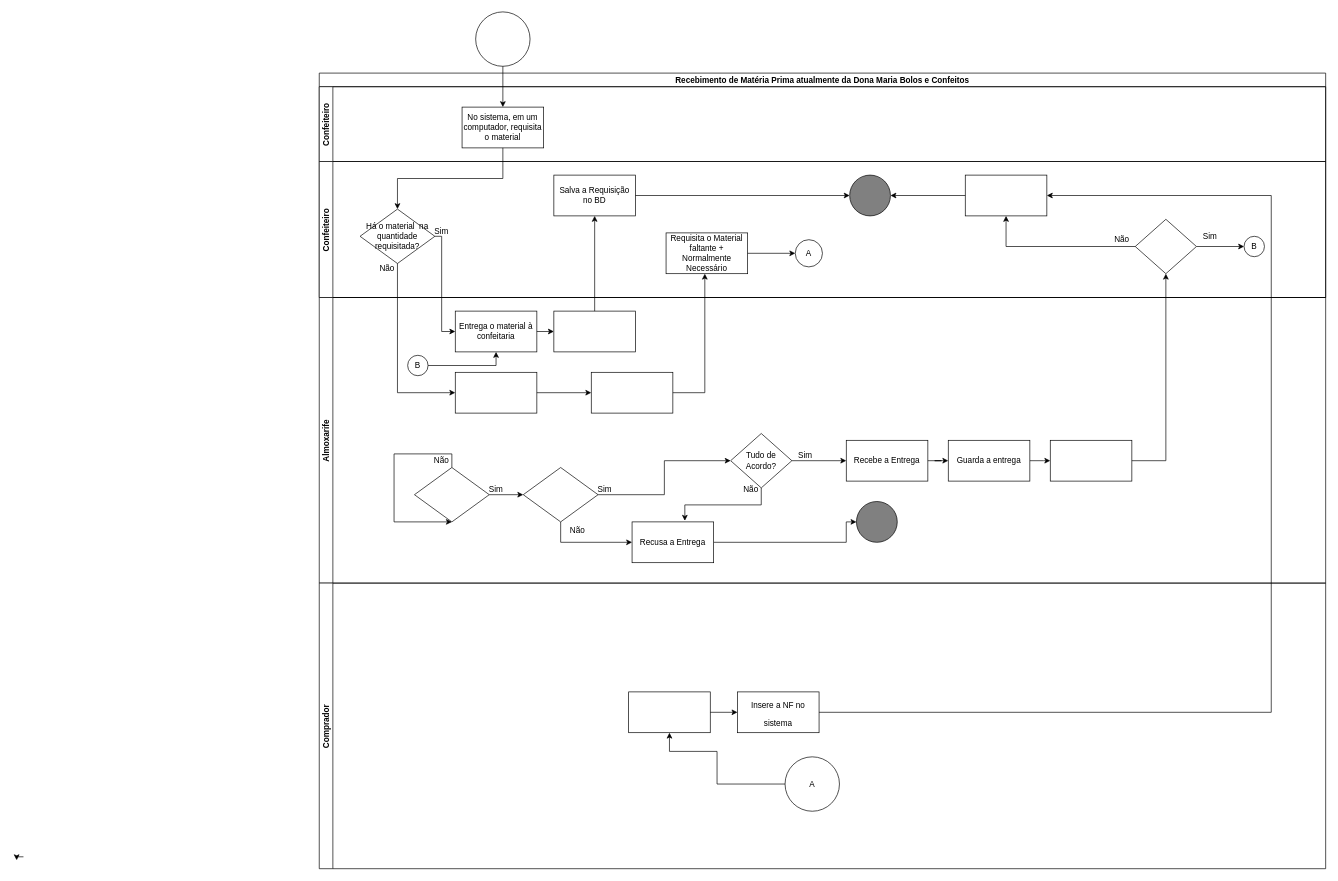
This 1338x881 diagram has some shape labels left out. The shapes that lost their labels are listed below. From the top down, each one's centre as x and y in pixels, then its label:
At point (502, 38): "Início".
At point (1006, 195): "Insere a Nota no BD".
At point (1165, 246): "Existe alguma nota pendente?".
At point (594, 331): "Dá baixa na requisição do Confeiteiro".
At point (496, 392): "Entrega o Máximo Possível do Material".
At point (632, 392): "Digita a Quantidade fornecida no sistema".
At point (1091, 460): "Dá baixa na nota".
At point (451, 494): "Chegou Entrega?".
At point (560, 494): "A entrega tem uma nota fiscal requisitante?".
At point (669, 712): "Realiza o processo de Compra".
